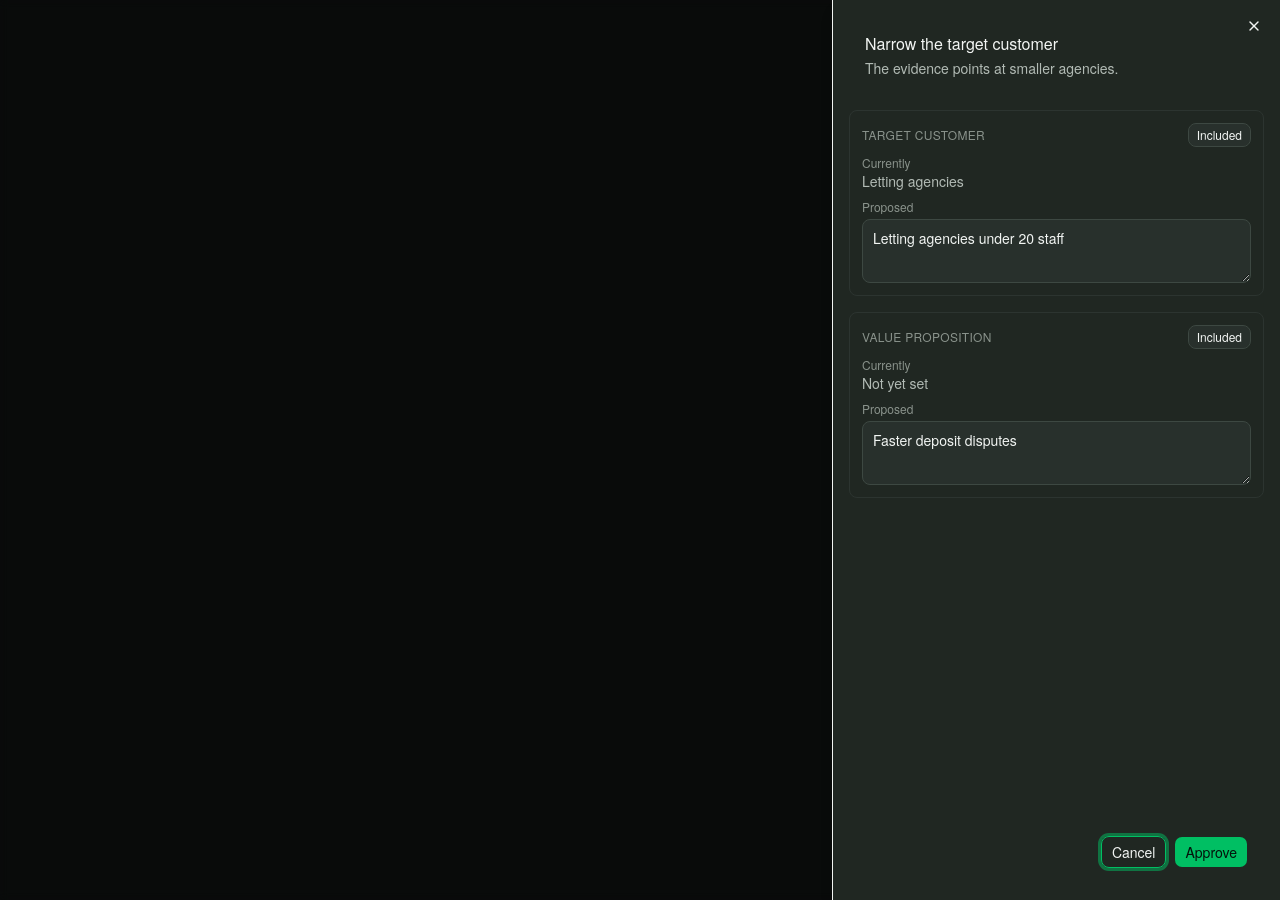
Test: ChangeProposalSheet (T11, docs/review/06-DESIGN_REVIEW.md §6) › warns on partial approval, specific that excluded items keep their current values
Expected: the text "Letting agencies" is shown, [862,171,964,191]
Click the 1st button "Included": (1219, 135) [1188,123,1251,147]
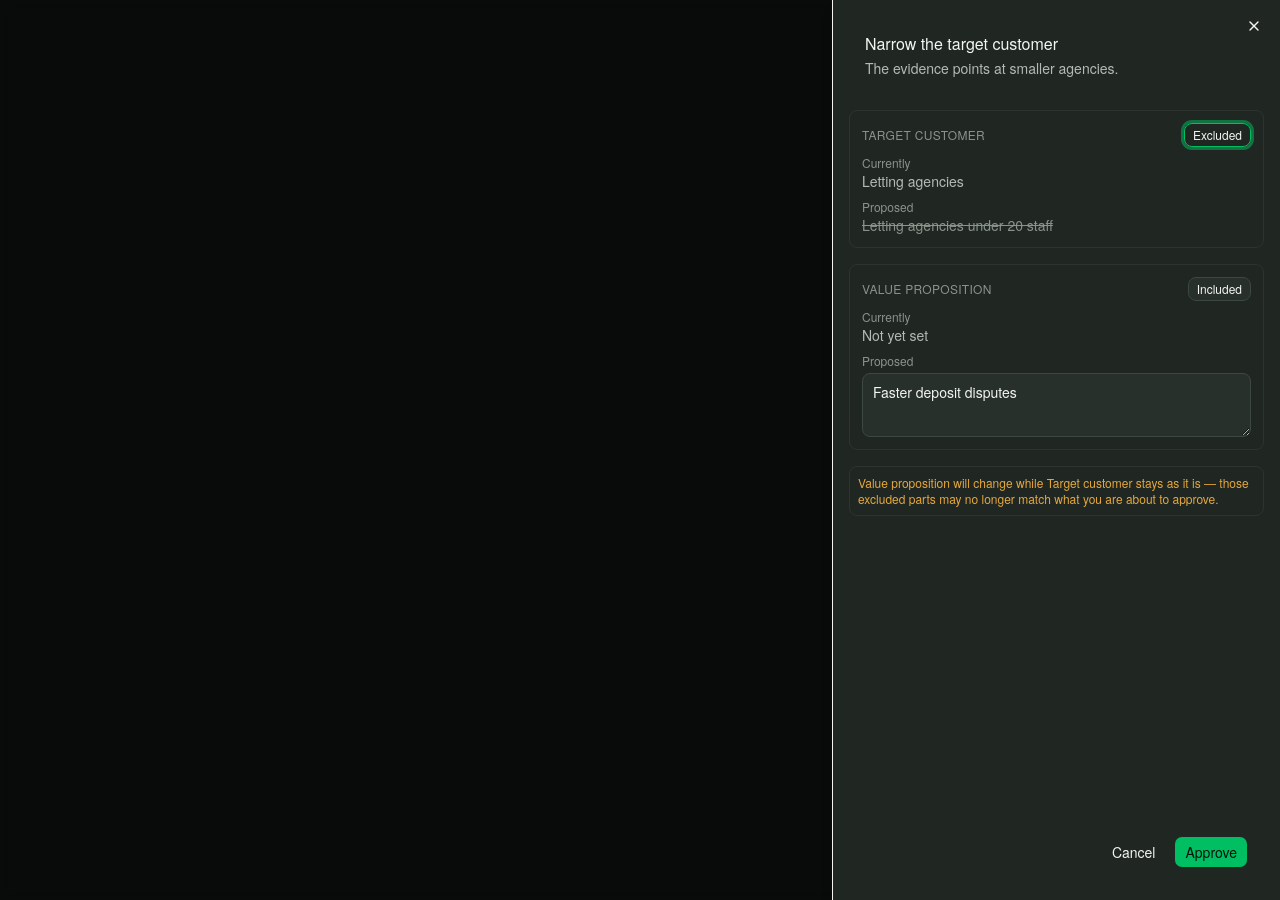
Expected: the message shows "Value proposition", [858,474,950,491]
Expected: the message shows "Target customer", [1047,474,1132,491]
Expected: the message shows "stays as it is", [858,474,1249,507]
